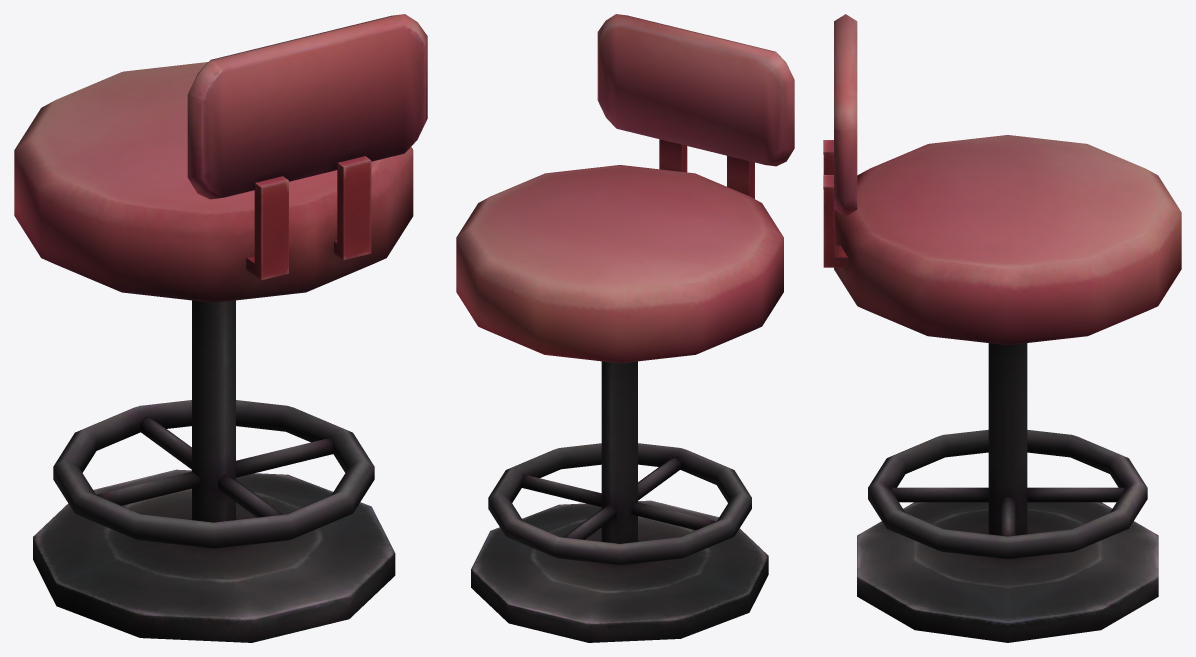
Rendered from furn_dwc2022_chair_01.gltf.
3 renders of one model, left to right at view 1: azimuth 30°, elevation 25°; view 2: azimuth 150°, elevation 25°; view 3: azimuth 270°, elevation 25°, orthographic. The views are drawn at different scales.
Visible parts, largest first — view 1: dwc2022_chair_01; view 2: dwc2022_chair_01; view 3: dwc2022_chair_01.
Boxes of the visible parts, x1,y1,x2,y2 form: dwc2022_chair_01: (14,14,427,642); dwc2022_chair_01: (456,14,794,642); dwc2022_chair_01: (823,14,1181,642).
Bounding box in the file's own units: 0.3477 × 0.5749 × 0.3583.
Materials: 1 (1 with a texture image).
